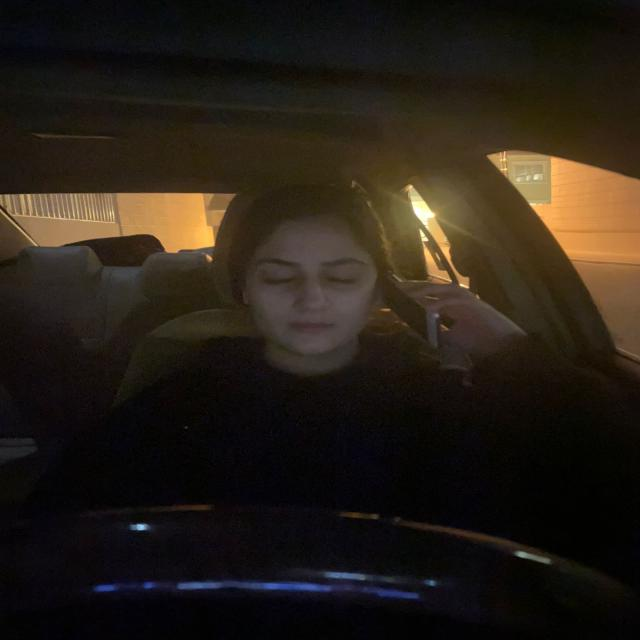phone: (379, 270, 442, 352)
